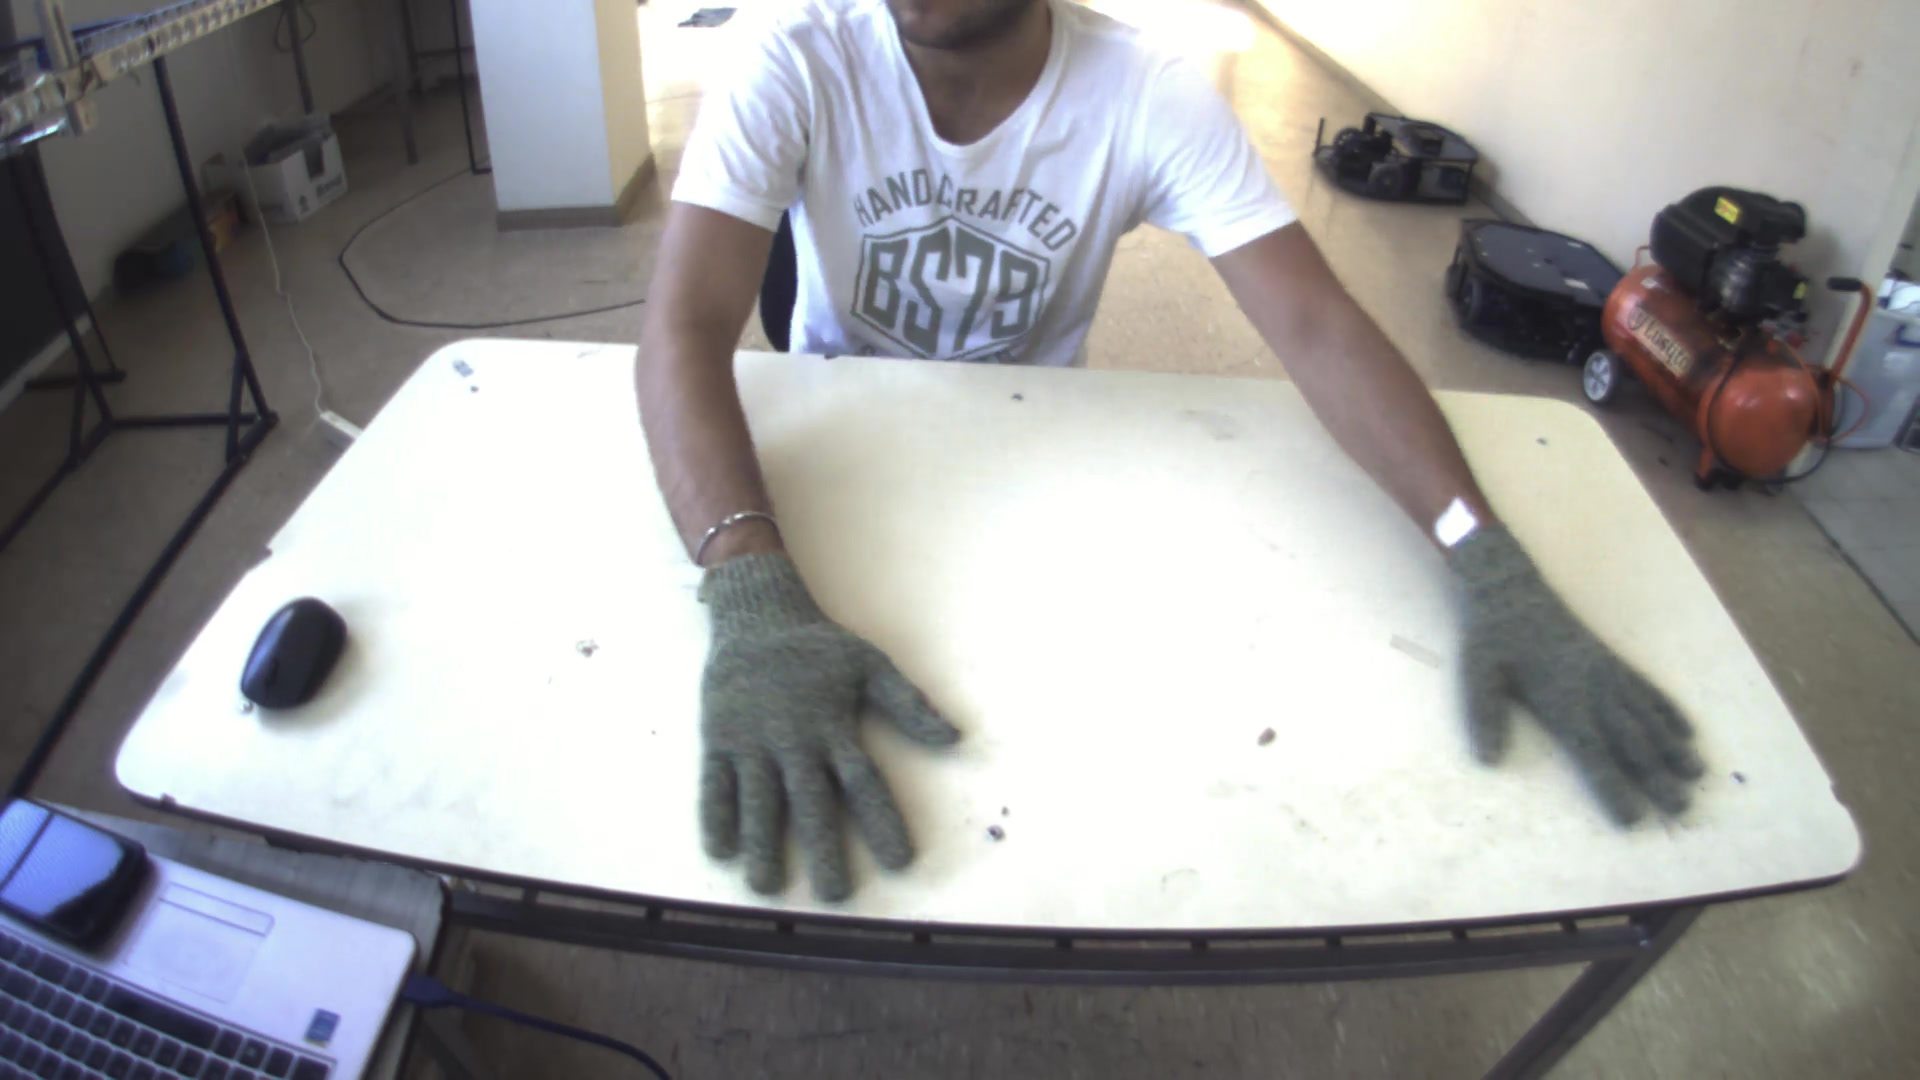hand: (671, 560, 978, 914), (1435, 517, 1712, 832)
